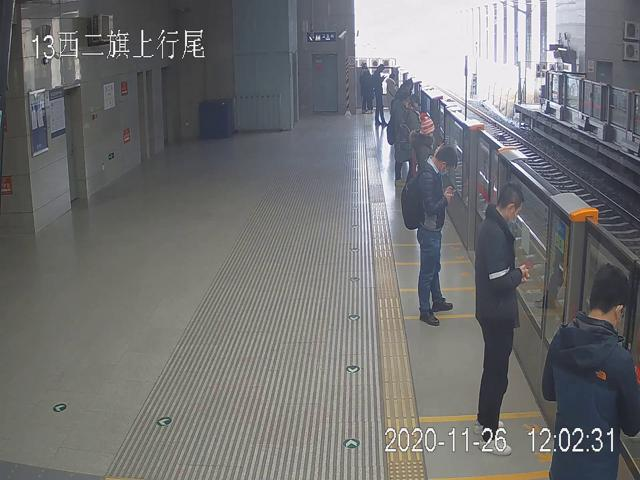person: (542, 264, 638, 480), (472, 180, 530, 455), (415, 145, 459, 326), (389, 87, 413, 188)
